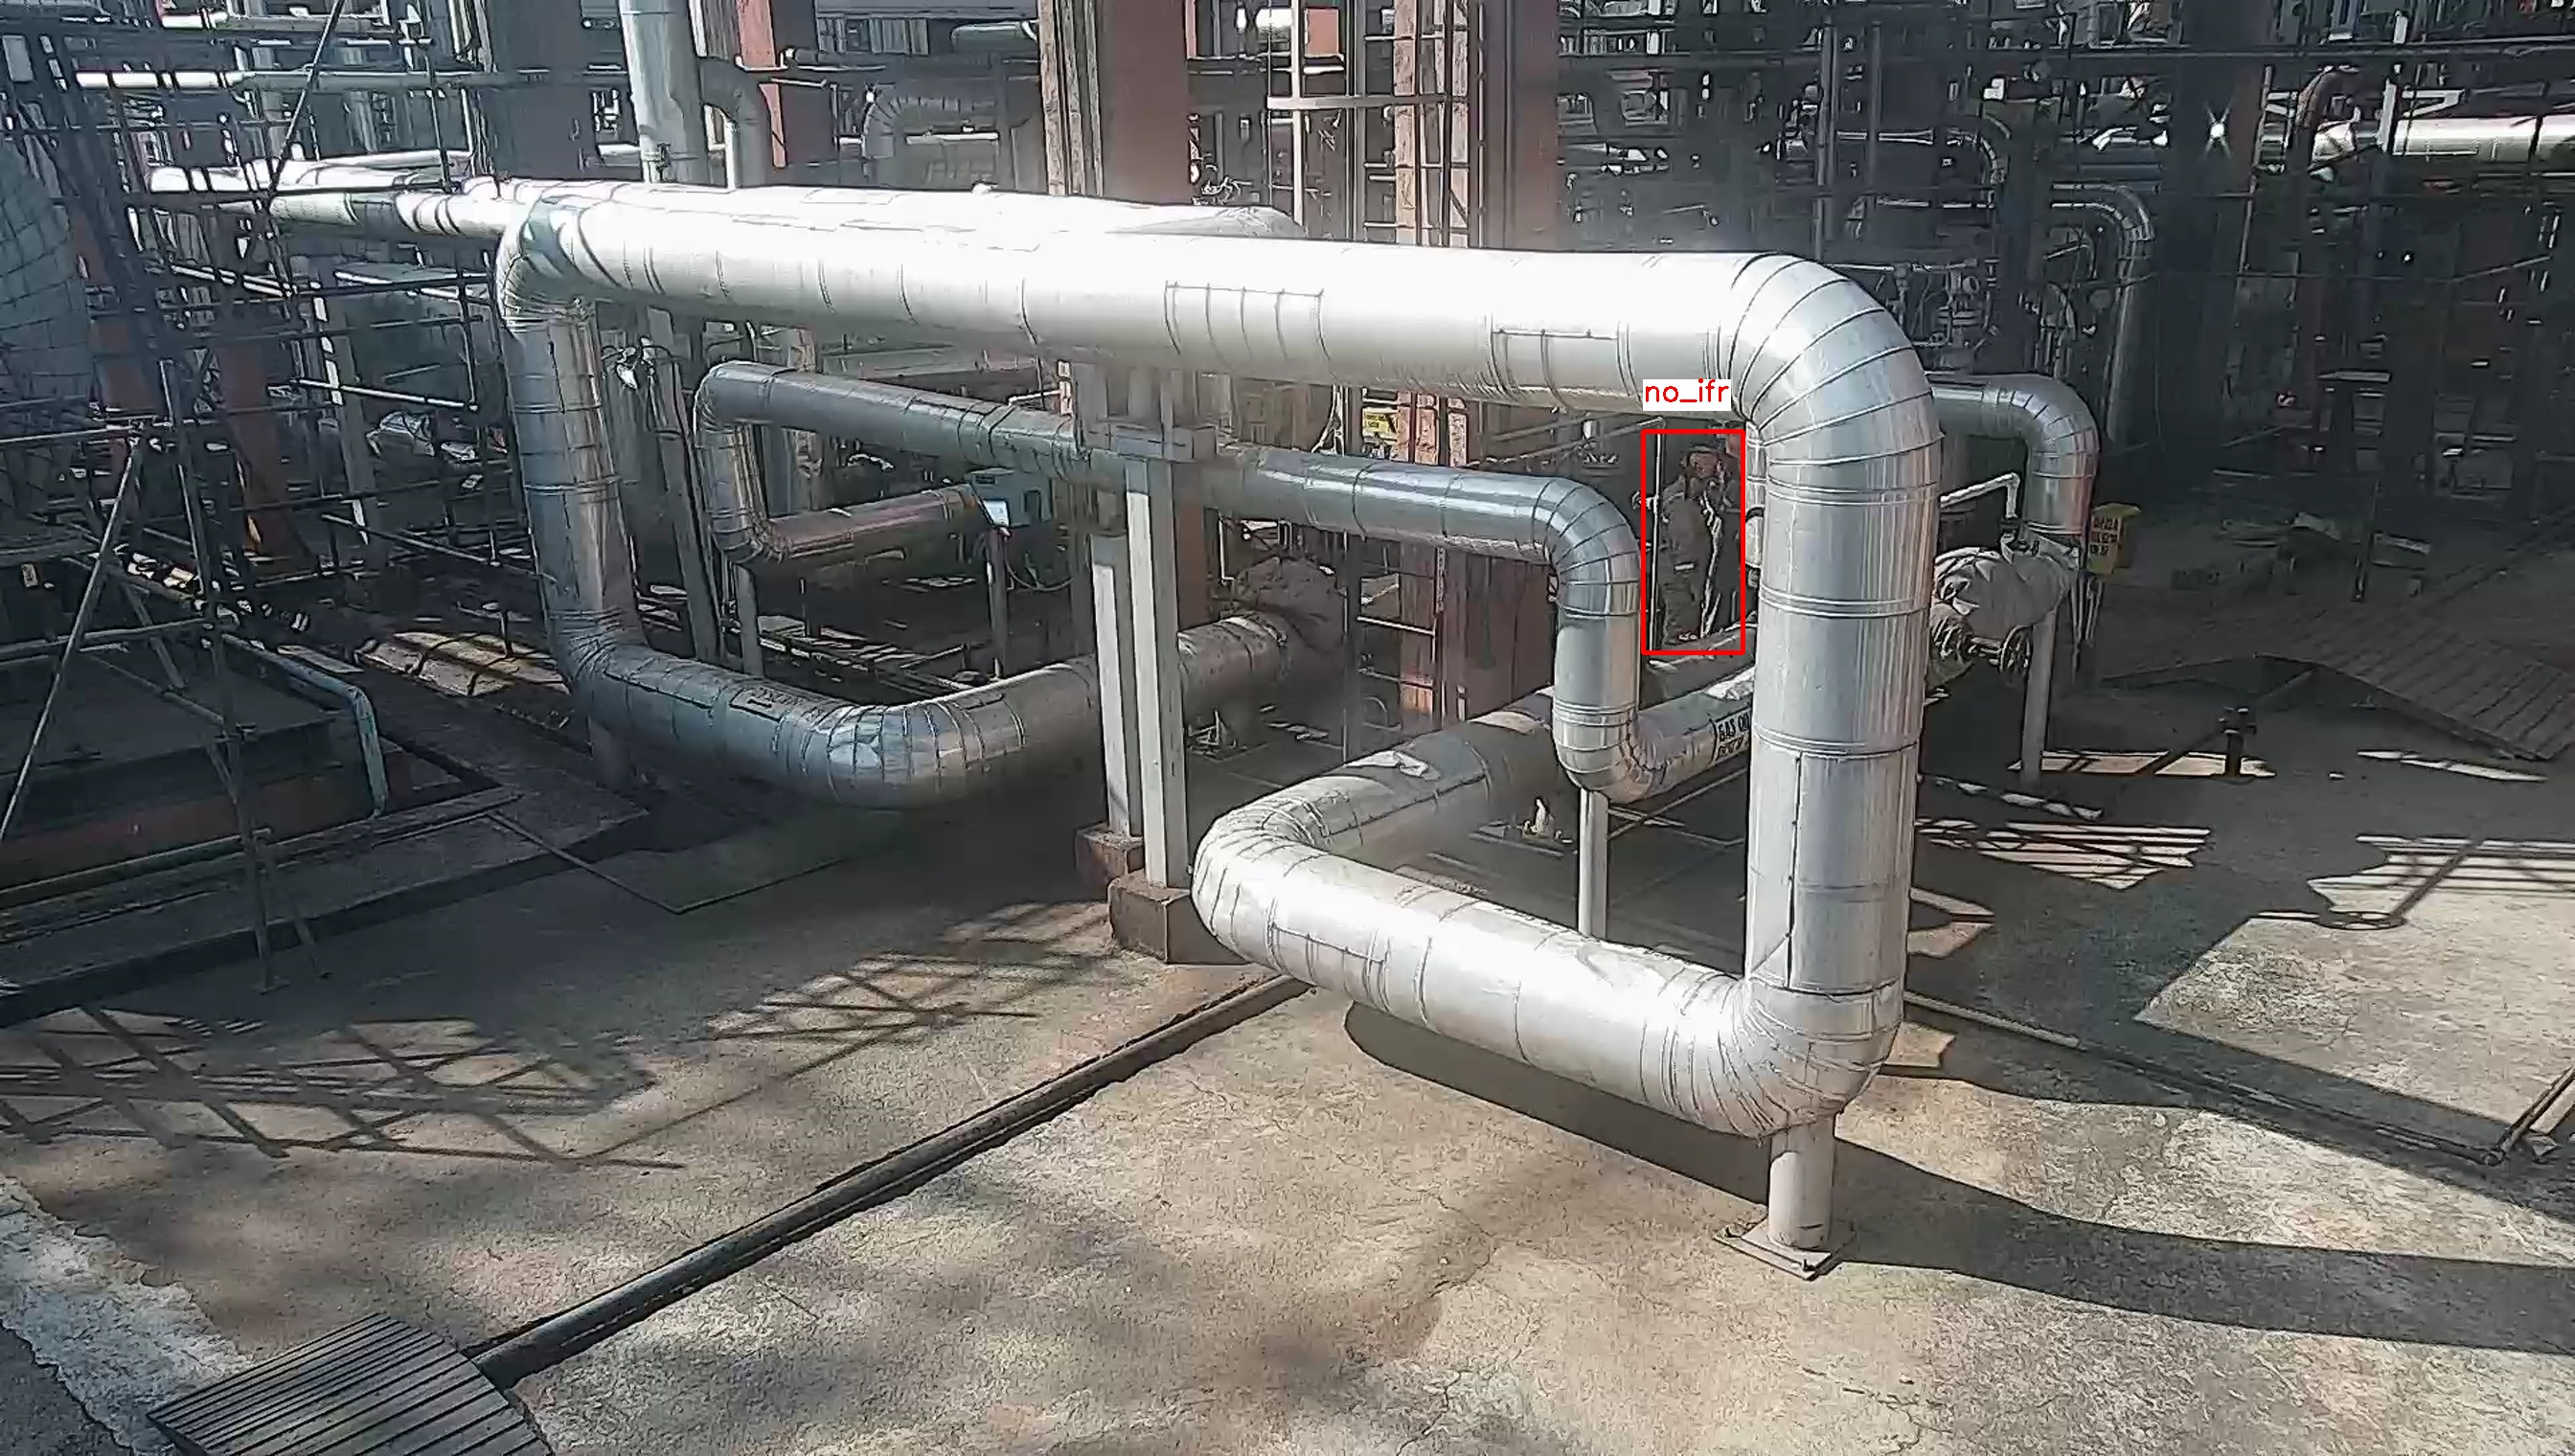Helmets: (1675, 437, 1731, 487)
IFR_Suit: (1654, 487, 1717, 648)
